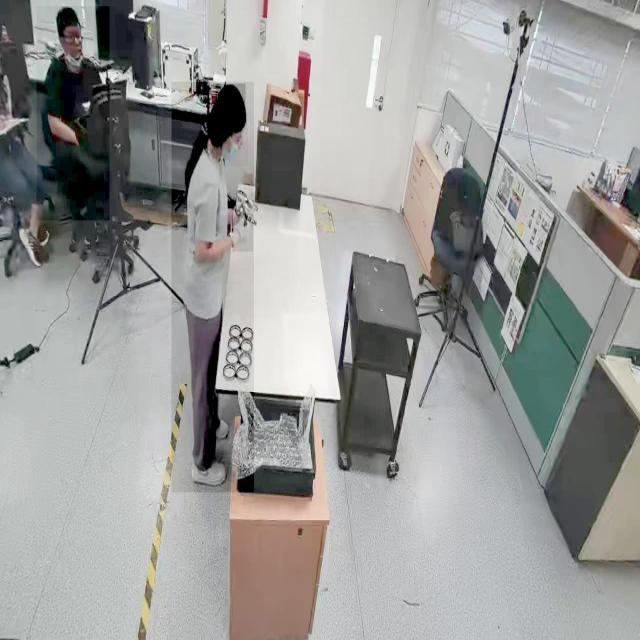face_mask: (216, 125, 248, 167)
face_nomask: (59, 25, 82, 58)
glasses: (65, 30, 85, 46)
hand_glove: (232, 214, 253, 252)
head_nohelmet: (216, 84, 246, 115), (55, 5, 79, 23)
person: (172, 82, 255, 493), (36, 7, 110, 222)
shoes: (187, 453, 229, 490), (14, 224, 46, 268)
